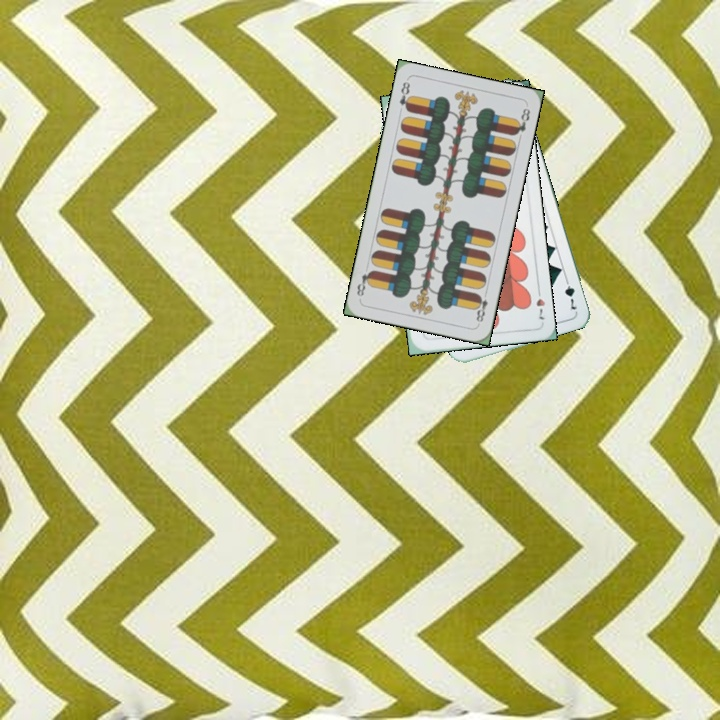E8: (471, 287, 490, 327), (395, 77, 414, 114)
G7: (560, 273, 579, 312)
H7: (532, 284, 548, 322)
